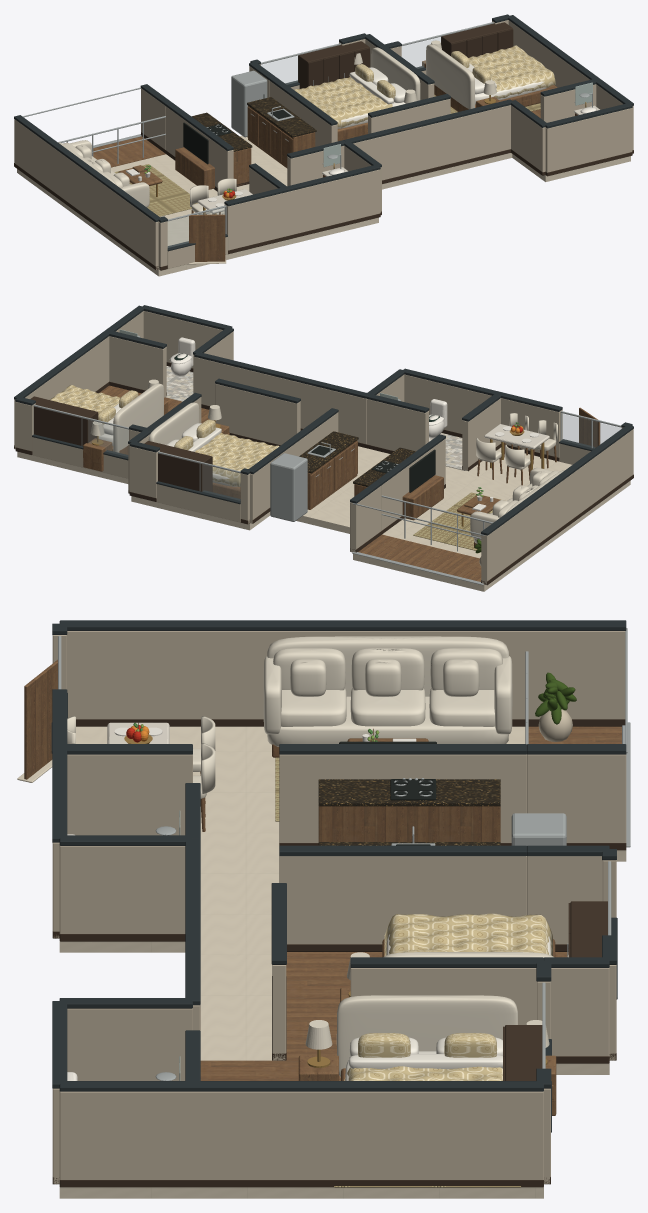
File: Codename-Elements_Tower-1_Flat-08_2BHK.glb
The picture shows the model from 3 angles, top to bottom: view 1: azimuth 30°, elevation 25°; view 2: azimuth 150°, elevation 25°; view 3: azimuth 270°, elevation 25°; orthographic projection. The views are drawn at different scales.
Visible parts, largest first — view 1: Ivory masonry.009, Ivory masonry.007, Ivory masonry.011, Apartment foundation, Ivory masonry.013, Soft jacquard duvet with folds.004, Soft jacquard duvet with folds.003, Ivory masonry.014, Padded headboard.003, Open walnut door leaf, Ivory masonry.022, Ivory masonry.012 (+47 smaller); view 2: Apartment foundation, Ivory masonry.007, Ivory masonry.011, Ivory masonry.009, Ivory masonry.016, Ivory masonry.014, Ivory masonry.020, Ivory masonry.018, Brushed refrigerator, Dark fitted wardrobe, Soft jacquard duvet with folds.004, Dark fitted wardrobe.001 (+45 smaller); view 3: Ivory masonry.014, Apartment foundation, Ivory masonry.007, Ivory masonry.017, Ivory masonry.010, Ivory masonry.022, Ivory masonry.021, Ivory masonry.012, Ivory masonry.006, Padded headboard.003, Kitchen cabinetry.001, Charcoal wall cut.007 (+52 smaller).
Boxes of the visible parts, x1,y1,x2,y2 form: Ivory masonry.009: (224, 169, 380, 250); Ivory masonry.007: (14, 119, 158, 269); Ivory masonry.011: (353, 105, 510, 180); Apartment foundation: (17, 136, 630, 276); Ivory masonry.013: (545, 108, 632, 172); Soft jacquard duvet with folds.004: (294, 77, 392, 127); Soft jacquard duvet with folds.003: (468, 45, 555, 98); Ivory masonry.014: (508, 20, 633, 150); Padded headboard.003: (426, 44, 474, 109); Open walnut door leaf: (189, 214, 225, 261); Ivory masonry.022: (166, 106, 233, 187); Ivory masonry.012: (511, 105, 545, 172); Apartment foundation: (17, 446, 630, 591); Ivory masonry.007: (481, 429, 633, 584); Ivory masonry.011: (194, 357, 366, 444); Ivory masonry.009: (404, 374, 562, 457); Ivory masonry.016: (215, 383, 300, 445); Ivory masonry.014: (14, 311, 143, 449); Ivory masonry.020: (367, 399, 428, 451); Ivory masonry.018: (109, 336, 166, 397); Brushed refrigerator: (270, 453, 307, 521); Dark fitted wardrobe: (30, 396, 97, 446); Soft jacquard duvet with folds.004: (195, 432, 279, 486); Dark fitted wardrobe.001: (144, 441, 212, 491); Ivory masonry.014: (59, 1091, 543, 1179); Apartment foundation: (59, 726, 626, 1198); Ivory masonry.007: (66, 631, 625, 719); Ivory masonry.017: (279, 856, 526, 944); Ivory masonry.010: (59, 845, 185, 933); Ivory masonry.022: (279, 754, 526, 842); Ivory masonry.021: (67, 754, 192, 835); Ivory masonry.012: (67, 1008, 192, 1080); Ivory masonry.006: (527, 754, 626, 842); Padded headboard.003: (336, 995, 517, 1077); Kitchen cabinetry.001: (318, 806, 500, 841); Charcoal wall cut.007: (59, 620, 626, 630).
Bounding box in the file's own units: 11.51 × 1.37 × 6.39.
Materials: 25 (6 with a texture image).
